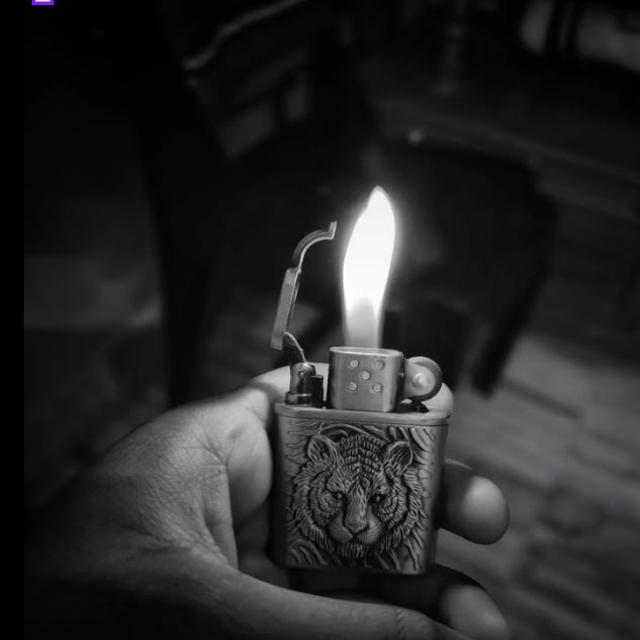fire: (343, 185, 395, 347)
